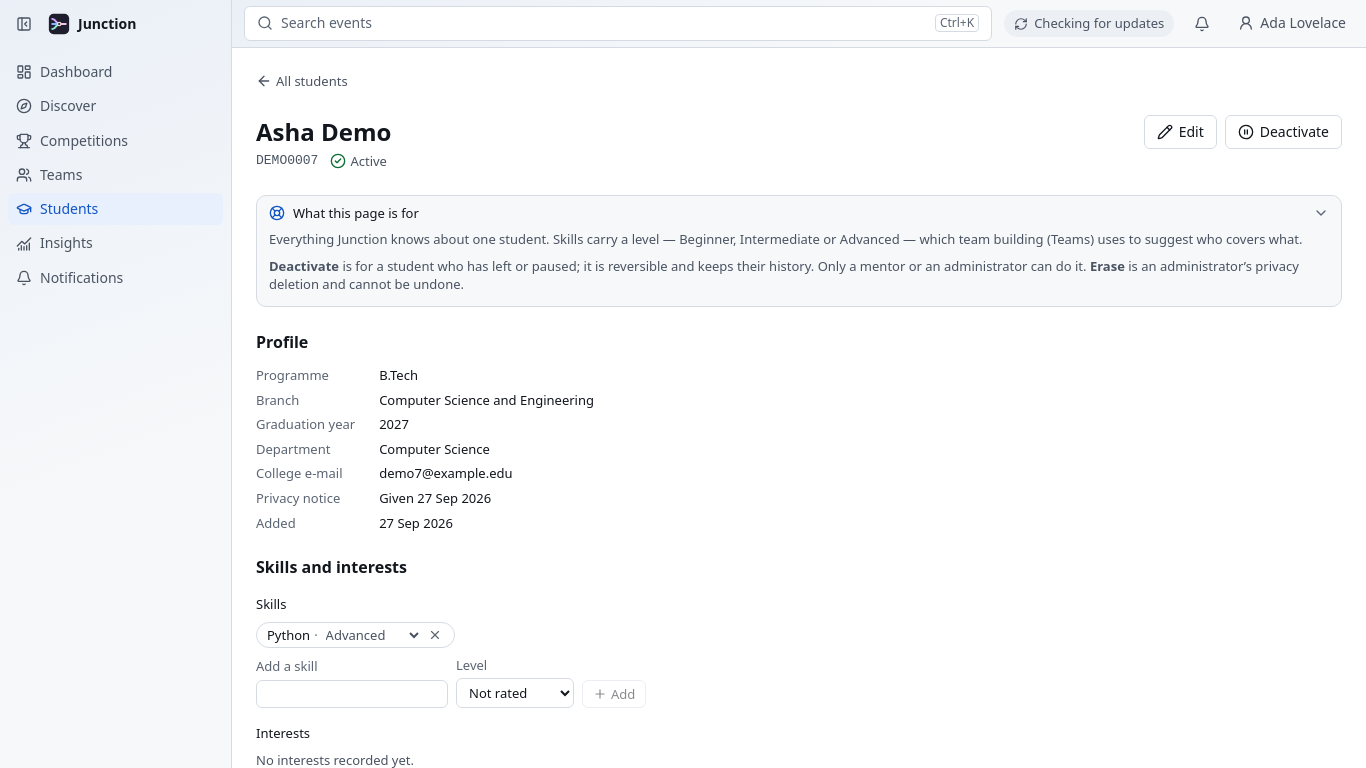
Test case: skills and interests › puts the page back and offers a reload when someone else changed the student
Expected: the navigation bar named "Main" is shown, [0,0,231,302]
Expected: the heading "Asha Demo" is shown, [256,115,391,148]
Click the button named "Remove Python" at x=435, y=635, box [426,626,444,644]
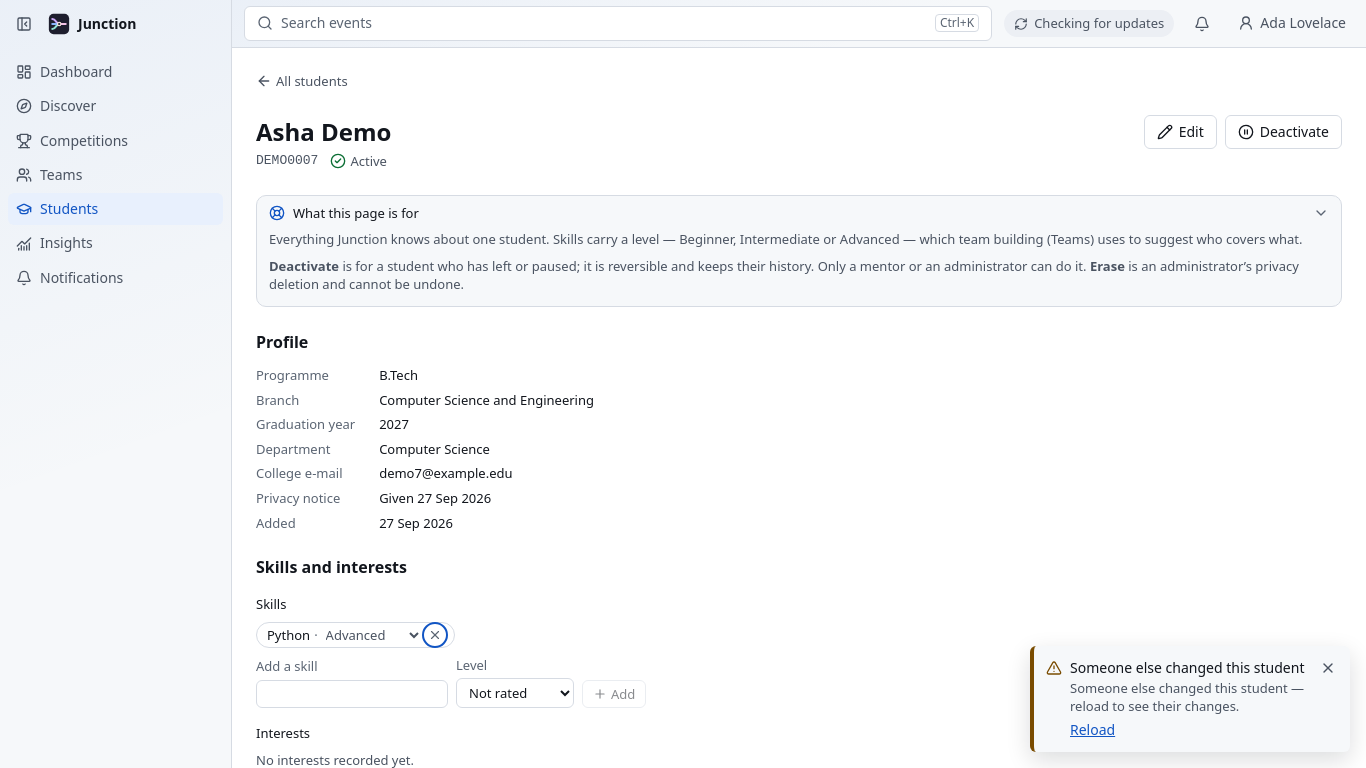
Expected: the text "Python" is shown, [267,626,310,644]
Result: the text "Someone else changed this student" is shown at [1070,658,1310,679]
Result: the button "Reload" is shown at [1070,720,1115,740]
